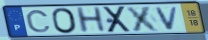C: (25, 9, 53, 34)
H: (74, 6, 108, 34)
O: (50, 7, 79, 35)
V: (154, 6, 181, 31)
X: (125, 5, 163, 33), (102, 5, 133, 34)
